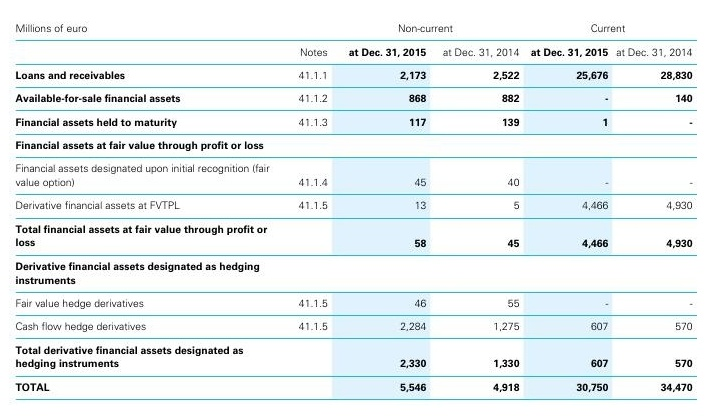table: (0, 0, 715, 416)
